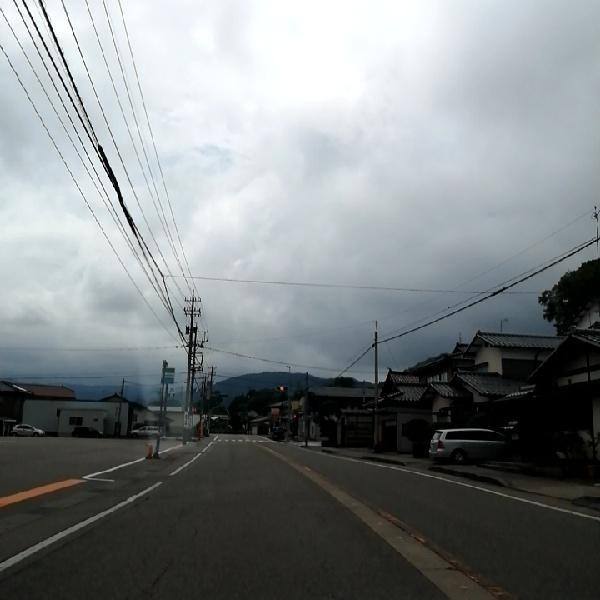D00: (139, 556, 175, 595)
D44: (360, 511, 576, 596)
